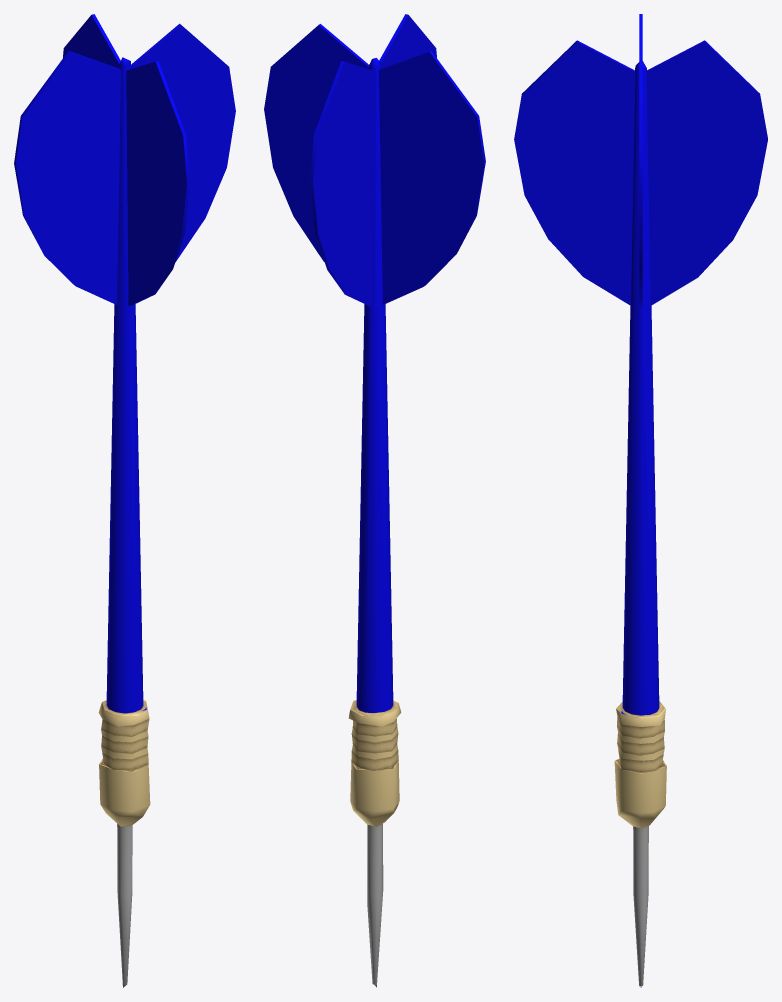
The model's file is dart_blue.glb.
3 renders of one model, left to right at view 1: azimuth 30°, elevation 25°; view 2: azimuth 150°, elevation 25°; view 3: azimuth 270°, elevation 25°, orthographic.
Visible parts, largest first — view 1: dart_blue; view 2: dart_blue; view 3: dart_blue.
Boxes of the visible parts, x1,y1,x2,y2 form: dart_blue: [14, 14, 235, 987]; dart_blue: [264, 14, 485, 987]; dart_blue: [514, 14, 767, 987].
Bounding box in the file's own units: 0.0343 × 0.1412 × 0.0343.
1 material, 1 textured.
